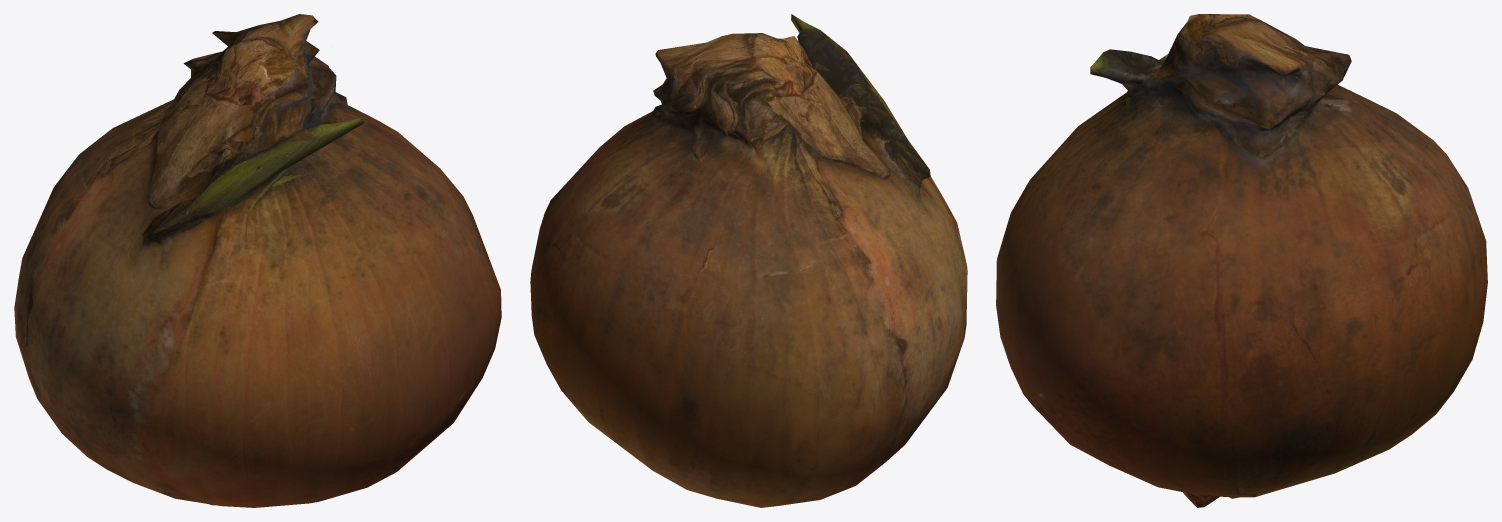
File: 19_onion.glb
The picture shows the model from 3 angles, left to right: view 1: azimuth 30°, elevation 25°; view 2: azimuth 150°, elevation 25°; view 3: azimuth 270°, elevation 25°; orthographic projection. The views are drawn at different scales.
Visible parts, largest first — view 1: 19_onion; view 2: 19_onion; view 3: 19_onion.
Boxes of the visible parts, x1,y1,x2,y2 form: 19_onion: (14, 14, 501, 507); 19_onion: (530, 14, 967, 507); 19_onion: (996, 14, 1487, 507).
Size of the model in its own units: 0.9323 by 1.02 by 0.952.
1 material, 1 textured.
